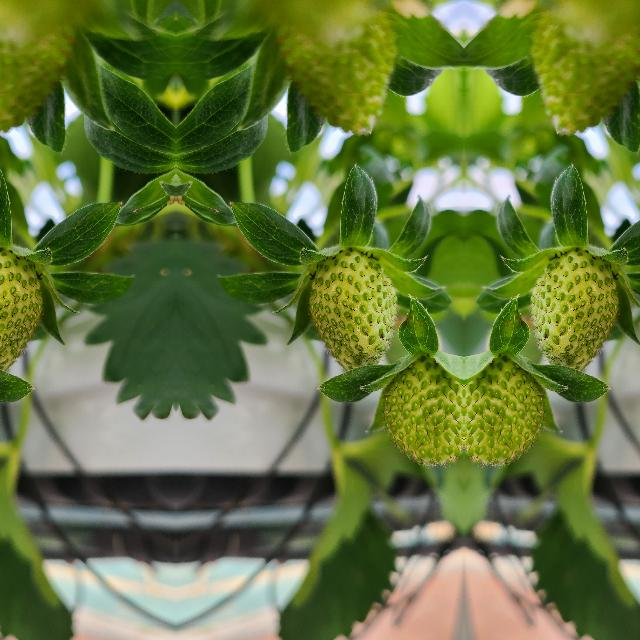Health_25: (265, 0, 390, 136), (535, 0, 640, 136), (0, 0, 84, 136), (305, 250, 399, 370), (527, 250, 621, 370), (383, 351, 462, 463), (463, 351, 542, 463), (0, 249, 45, 370)
